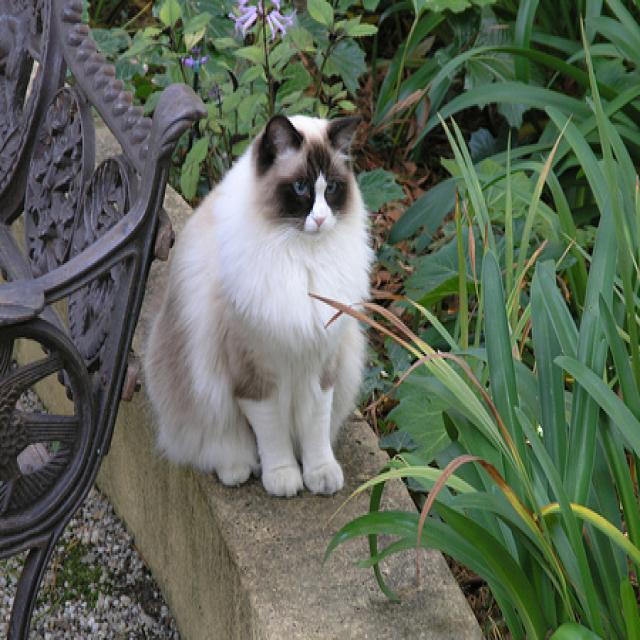Ragdoll: (143, 104, 377, 501)
